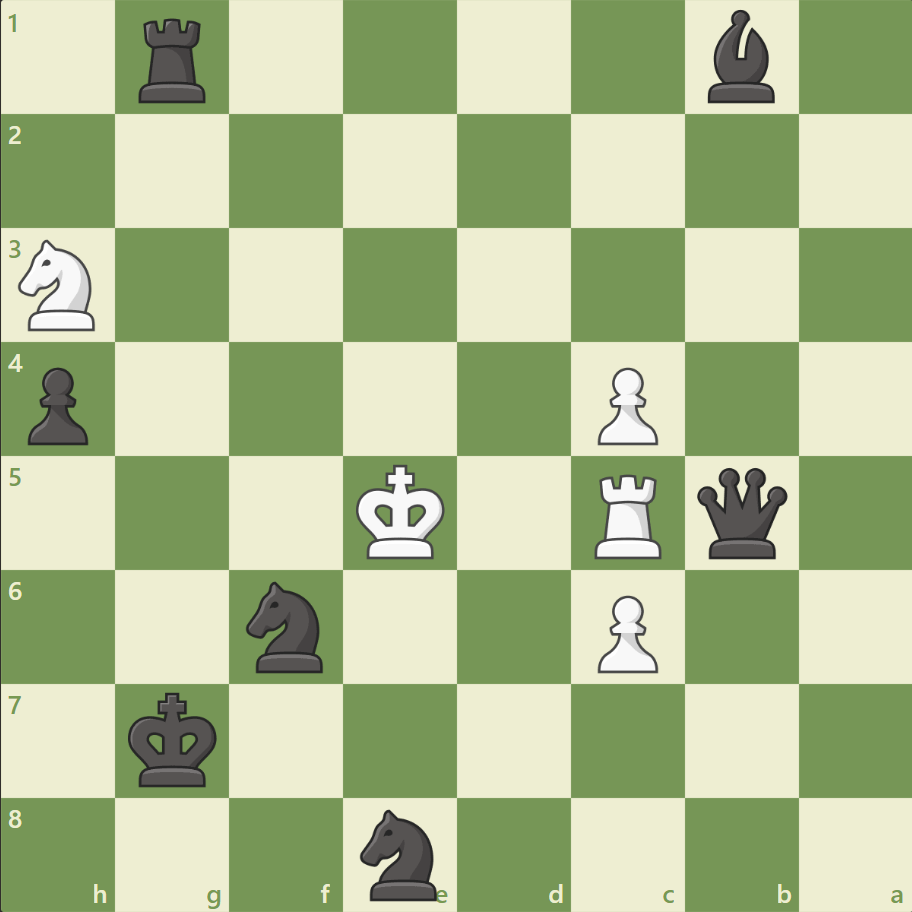K: (351, 458, 451, 566)
N: (11, 234, 108, 337)
P: (588, 586, 662, 677), (588, 359, 662, 450)
R: (587, 466, 670, 563)
b: (698, 6, 782, 109)
k: (124, 685, 224, 793)
n: (351, 802, 449, 904), (238, 575, 335, 677)
p: (20, 359, 95, 450)
q: (691, 463, 790, 562)
r: (133, 12, 215, 109)
